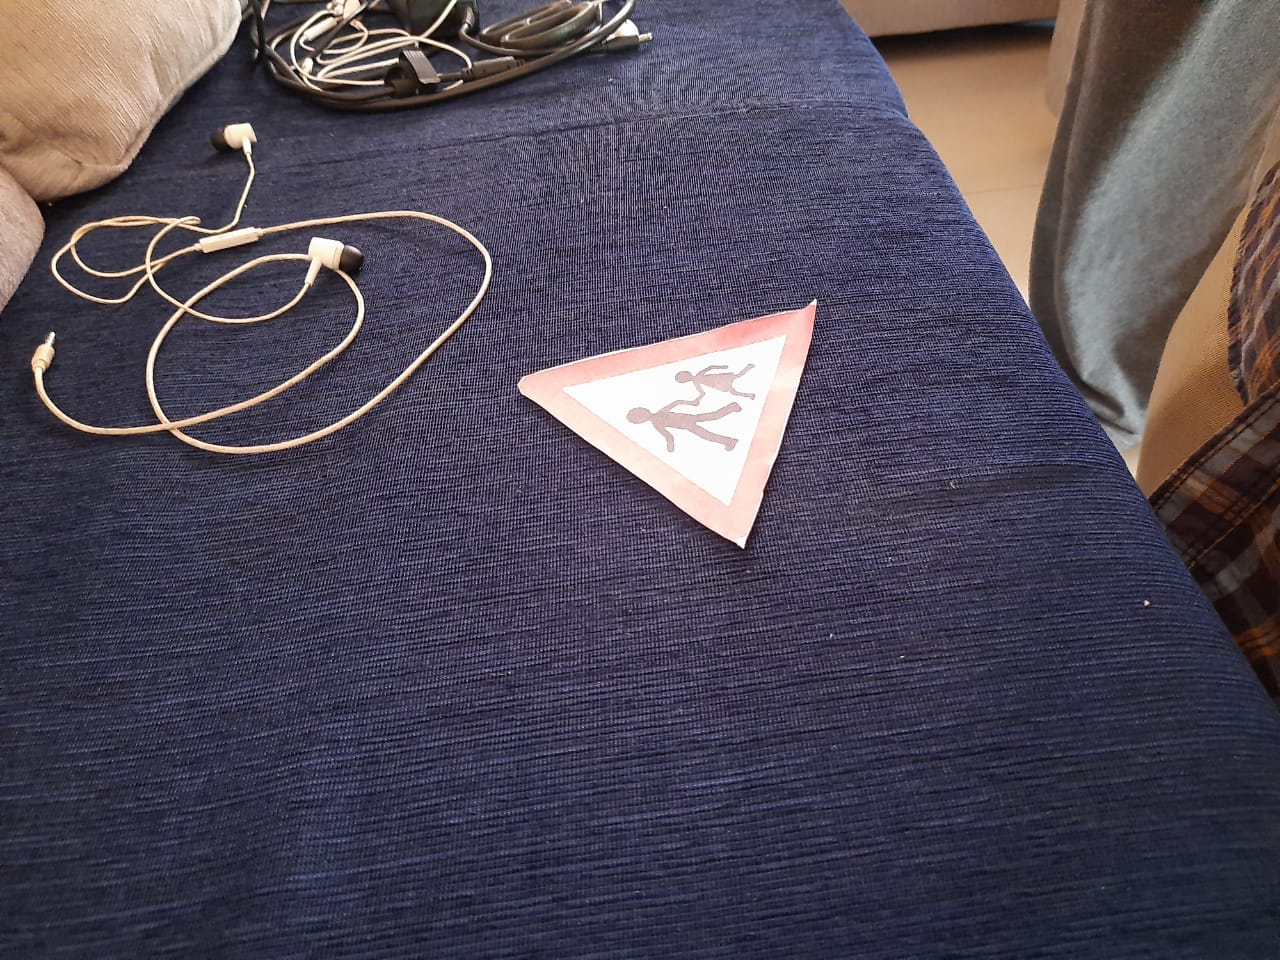SCHOOL ZONE: (523, 261, 833, 555)
